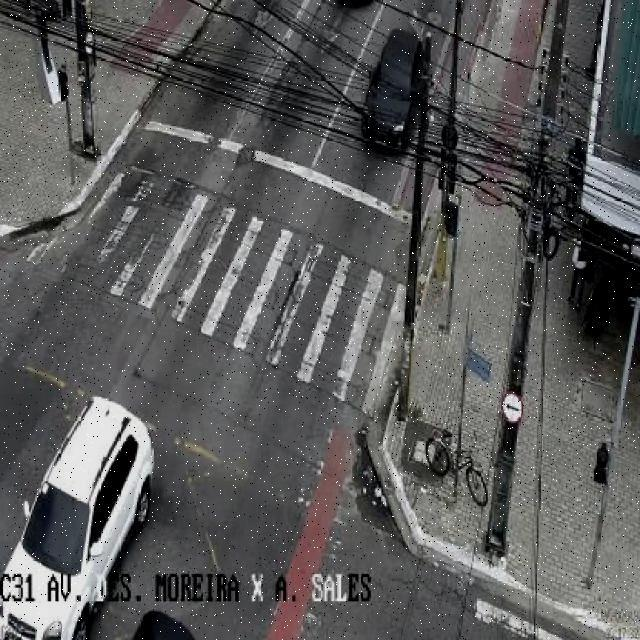Car: (0, 395, 155, 640), (352, 24, 437, 173)
Cycle: (419, 425, 490, 509)
